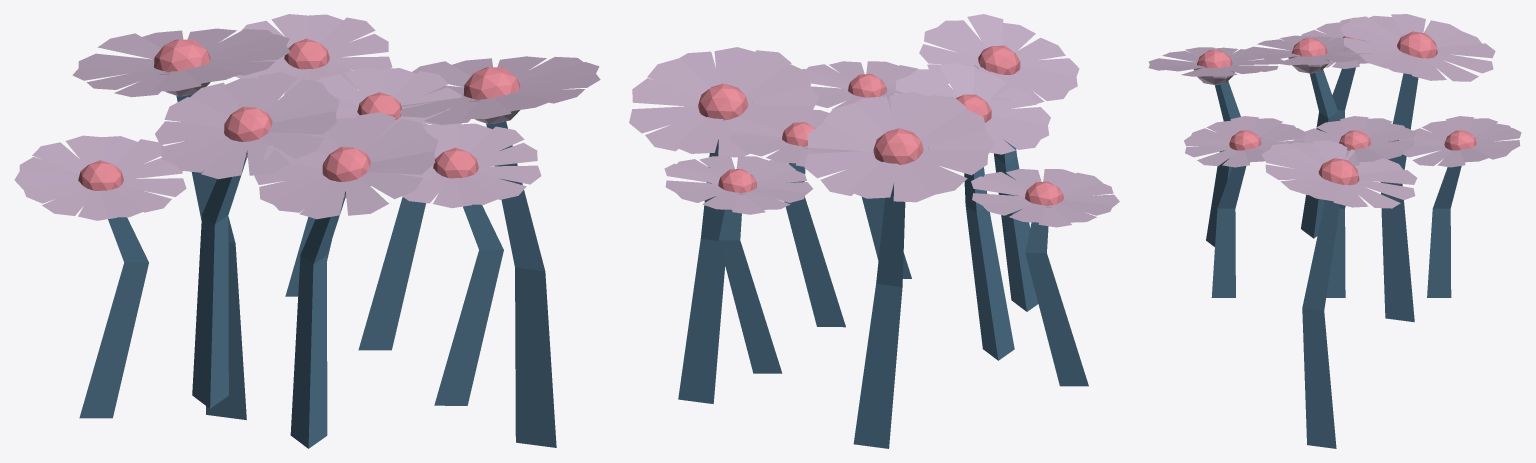
Rendered from wh_flowers.fbx.
3 renders of one model, left to right at view 1: azimuth 30°, elevation 25°; view 2: azimuth 150°, elevation 25°; view 3: azimuth 270°, elevation 25°, orthographic. The views are drawn at different scales.
Parts seen in each view (by area): view 1: wh_flower003, wh_flower001, wh_flower002; view 2: wh_flower003, wh_flower001, wh_flower002; view 3: wh_flower003, wh_flower001, wh_flower002.
Boxes of the visible parts, left/top/right/bottom form: wh_flower003: left=14, top=14, right=600, bottom=220; wh_flower001: left=79, top=94, right=556, bottom=448; wh_flower002: left=78, top=38, right=520, bottom=190; wh_flower003: left=629, top=14, right=1119, bottom=227; wh_flower001: left=678, top=139, right=1088, bottom=448; wh_flower002: left=698, top=45, right=1063, bottom=205; wh_flower003: left=1148, top=14, right=1521, bottom=208; wh_flower001: left=1206, top=67, right=1461, bottom=448; wh_flower002: left=1197, top=31, right=1476, bottom=185.
Size of the model in its own units: 0.0167 by 0.0124 by 0.0136.
